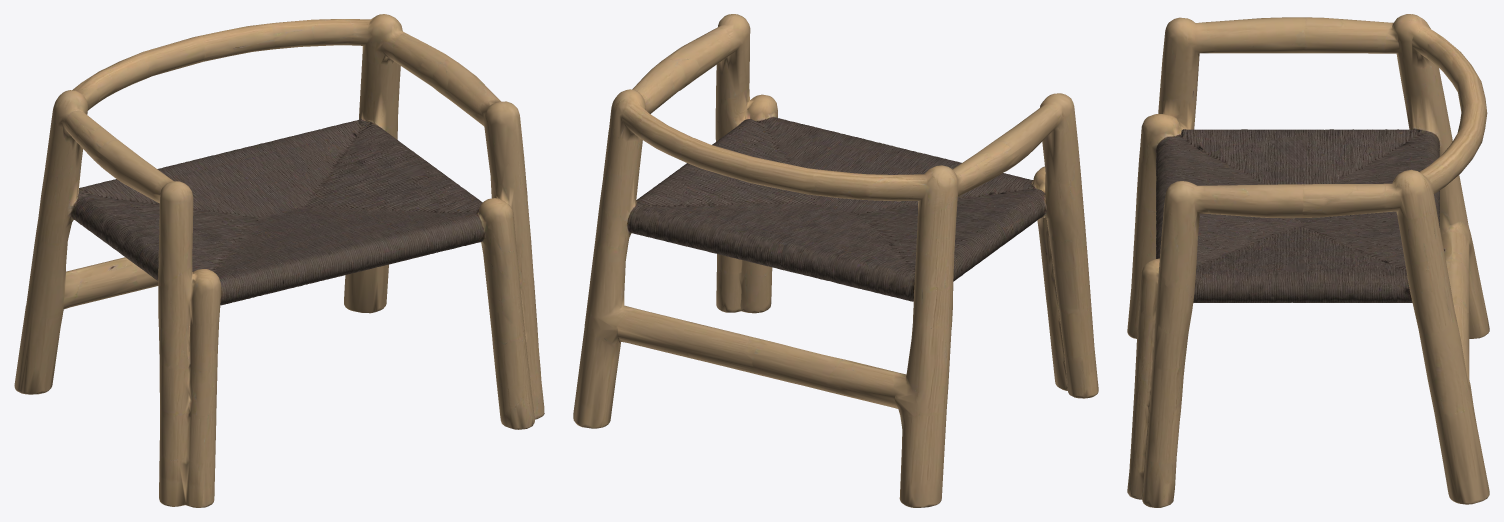
File: Side Accent Chair Woven.glb
The picture shows the model from 3 angles, left to right: view 1: azimuth 30°, elevation 25°; view 2: azimuth 150°, elevation 25°; view 3: azimuth 270°, elevation 25°; orthographic projection. The views are drawn at different scales.
Parts seen in each view (by area): view 1: Mesh_0.002; view 2: Mesh_0.002; view 3: Mesh_0.002.
Part boxes in pixels (bbox=[...]): Mesh_0.002: bbox=[14, 14, 544, 507]; Mesh_0.002: bbox=[573, 14, 1098, 507]; Mesh_0.002: bbox=[1127, 14, 1489, 507].
Bounding box in the file's own units: 0.8898 × 0.6999 × 0.7171.
Materials: 1 (1 with a texture image).
